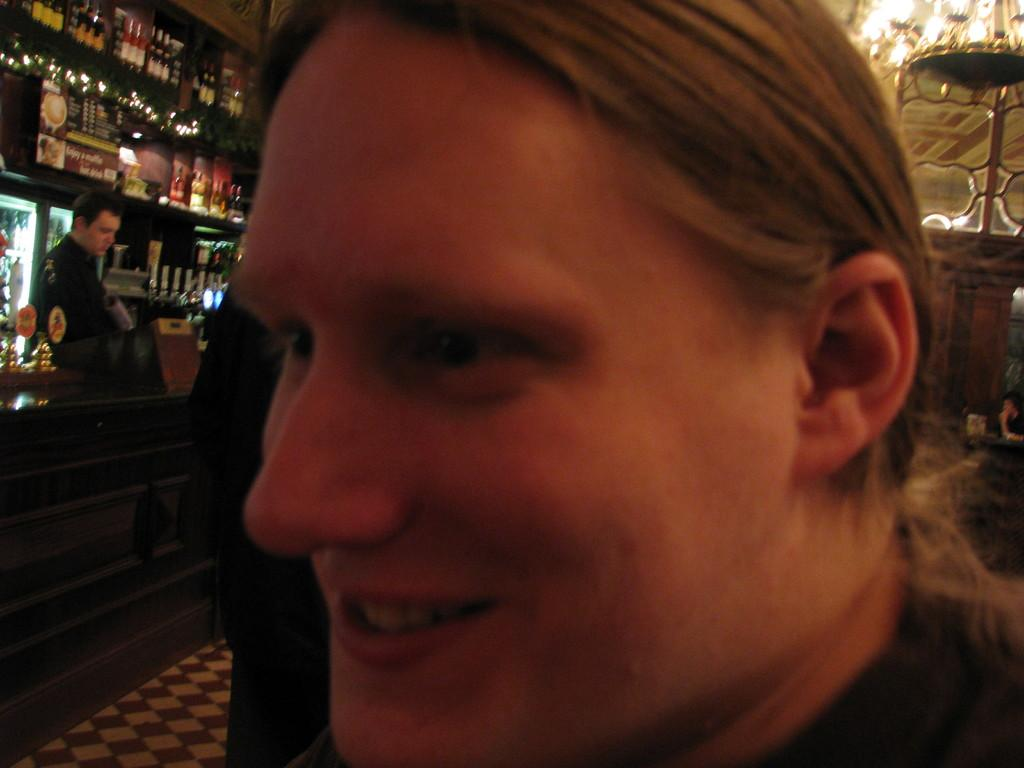Sem Máscara: (219, 5, 782, 765), (83, 205, 115, 255)
